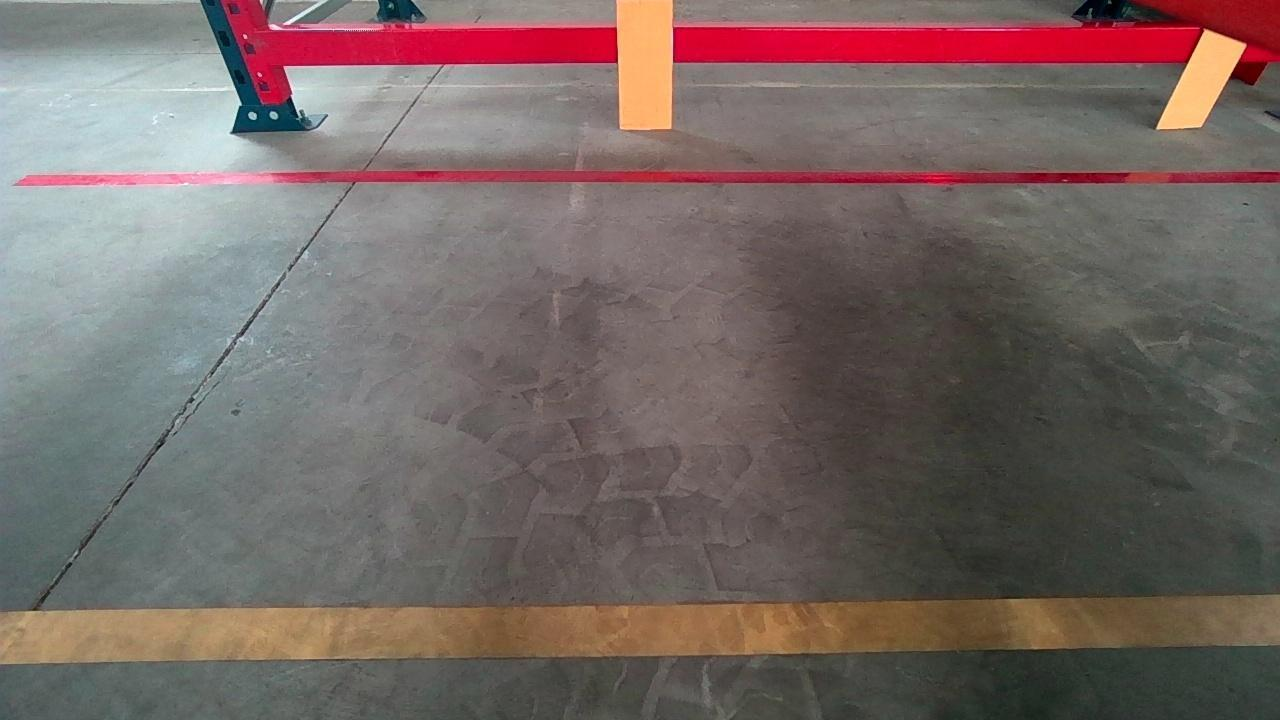h_rack: (256, 26, 1280, 65)
orange_strip: (1158, 32, 1249, 125), (617, 1, 674, 128)
red_line: (11, 171, 1280, 184)
yellow_line: (3, 591, 1279, 663)
